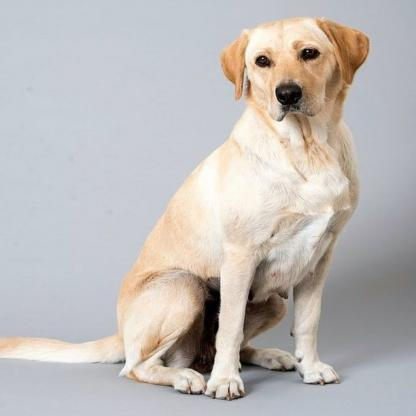dog: (0, 18, 372, 400)
